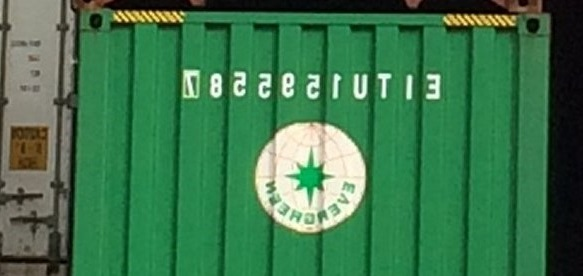container_no_door: (82, 8, 548, 276)
